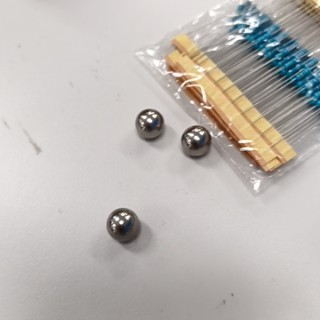ironball: (98, 199, 148, 256), (178, 110, 216, 169), (132, 101, 169, 149)
